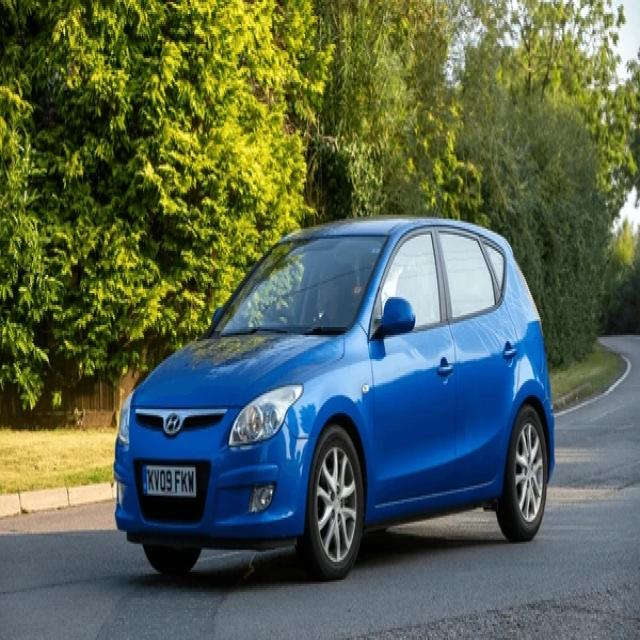hyundai: (159, 411, 185, 436)
